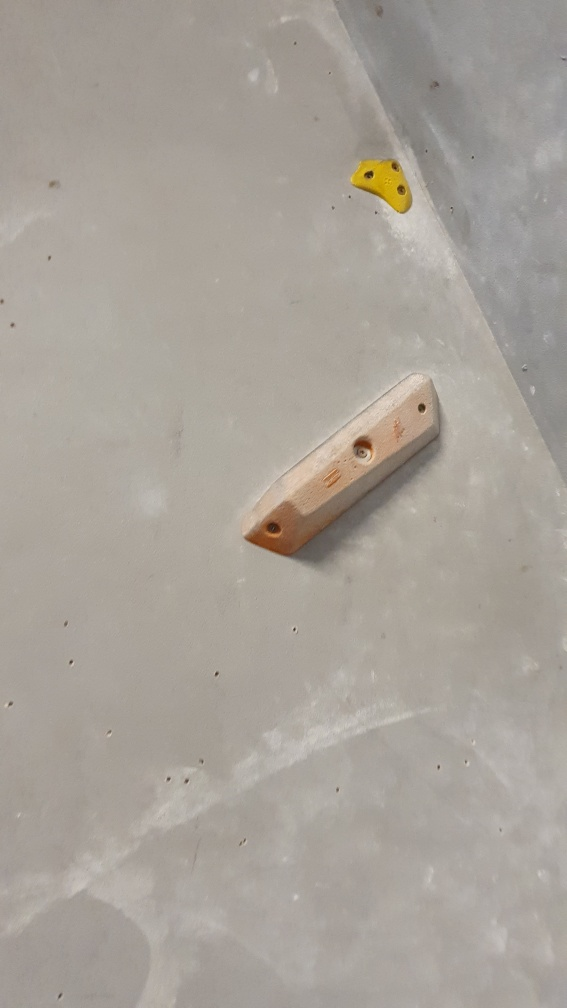Pinch: (242, 367, 444, 565)
